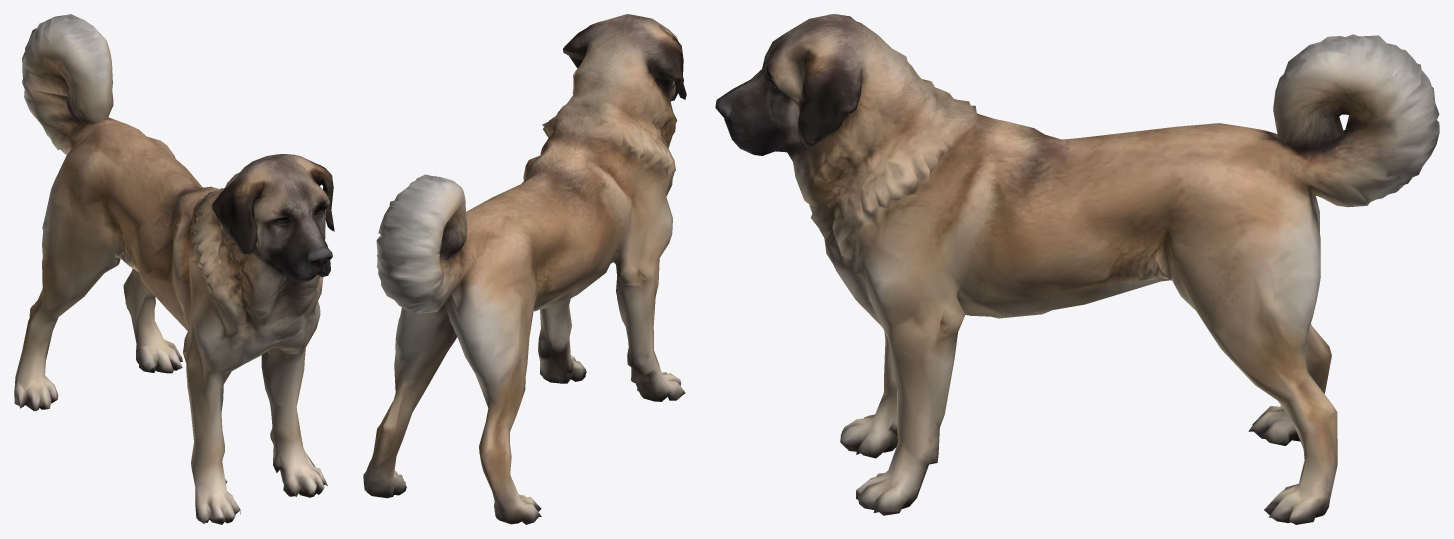
File: animal_dog.glb
3 renders of one model, left to right at view 1: azimuth 30°, elevation 25°; view 2: azimuth 150°, elevation 25°; view 3: azimuth 270°, elevation 25°, orthographic. The views are drawn at different scales.
Visible parts, largest first — view 1: tripo_node_b77ed319-6556-4af0-bd5b-5509013aa8b7; view 2: tripo_node_b77ed319-6556-4af0-bd5b-5509013aa8b7; view 3: tripo_node_b77ed319-6556-4af0-bd5b-5509013aa8b7.
Part boxes in pixels (bbox=[...]): tripo_node_b77ed319-6556-4af0-bd5b-5509013aa8b7: bbox=[14, 14, 334, 524]; tripo_node_b77ed319-6556-4af0-bd5b-5509013aa8b7: bbox=[363, 14, 686, 524]; tripo_node_b77ed319-6556-4af0-bd5b-5509013aa8b7: bbox=[715, 14, 1439, 524].
Size of the model in its own units: 0.3337 by 0.6775 by 0.9787.
1 material, 1 textured.
